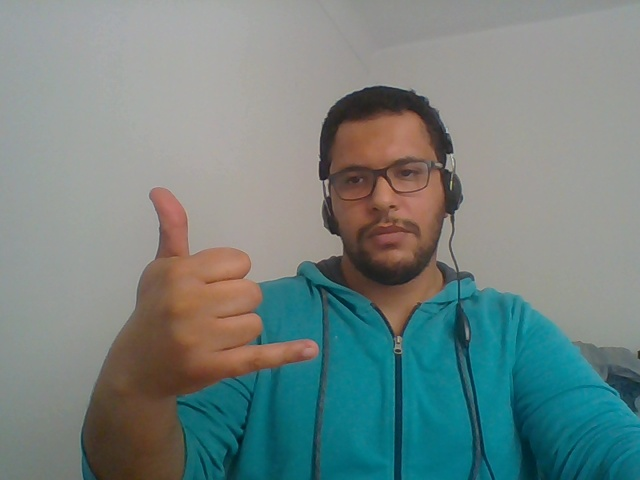callme: (98, 159, 329, 448)
